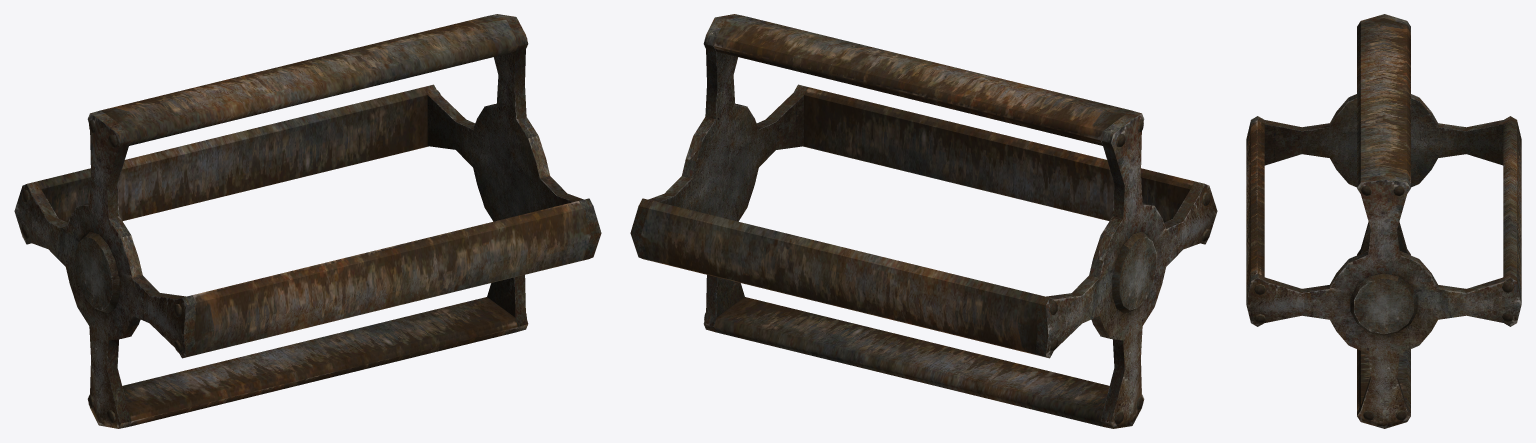
The model's file is water_wheel.dae.
3 renders of one model, left to right at view 1: azimuth 30°, elevation 25°; view 2: azimuth 150°, elevation 25°; view 3: azimuth 270°, elevation 25°, orthographic. The views are drawn at different scales.
Visible parts, largest first — view 1: water_wheel, wall_connections; view 2: water_wheel, wall_connections; view 3: water_wheel, wall_connections.
Boxes of the visible parts, box(x1,y1,x2,y2) form: water_wheel: box(14, 14, 601, 428); wall_connections: box(75, 231, 119, 313); water_wheel: box(630, 14, 1217, 428); wall_connections: box(1112, 231, 1156, 313); water_wheel: box(1246, 14, 1521, 428); wall_connections: box(1350, 273, 1417, 335).
Bounding box in the file's own units: 4.1 × 2.81 × 2.81.
